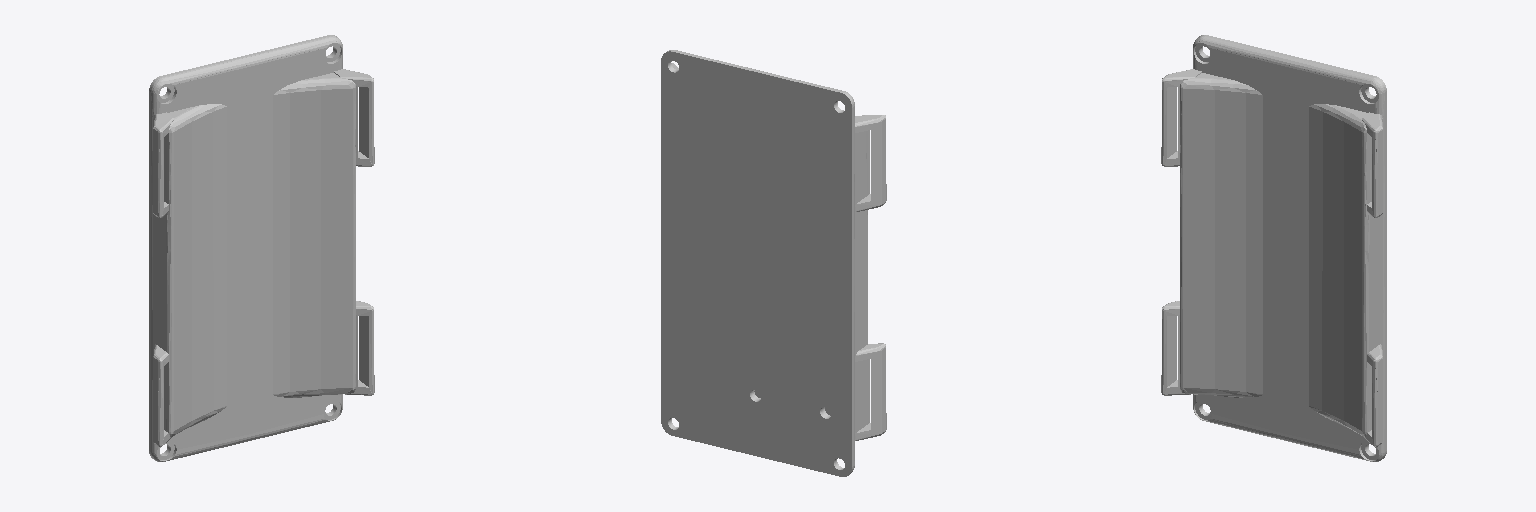
Rendered from Top.obj.
3 views of the same model, side by side, from view 1: azimuth 30°, elevation 25°; view 2: azimuth 150°, elevation 25°; view 3: azimuth 330°, elevation 25° (orthographic).
Visible parts, largest first — view 1: obj_0; view 2: obj_0; view 3: obj_0.
Part boxes in pixels (bbox=[...]): obj_0: bbox=[149, 35, 374, 461]; obj_0: bbox=[661, 50, 886, 476]; obj_0: bbox=[1161, 35, 1386, 461].
Size of the model in its own units: 67.72 by 115 by 12.33.